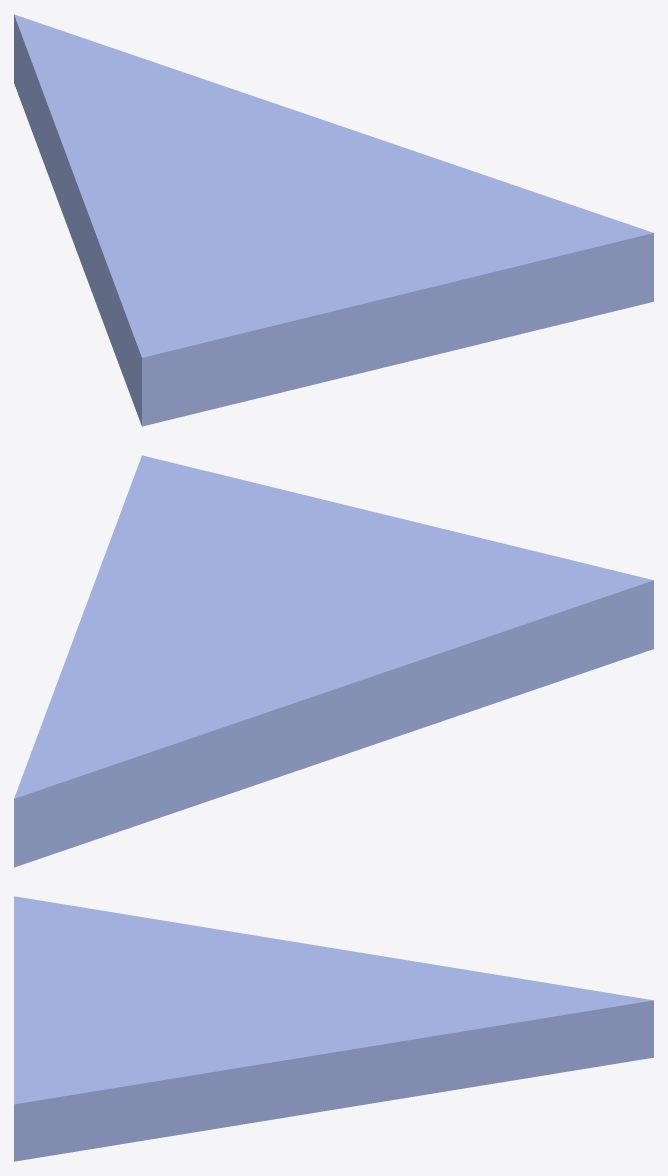
Rendered from triangolo_isoscele_piccolo.glb.
3 views of the same model, one above another, from view 1: azimuth 30°, elevation 25°; view 2: azimuth 150°, elevation 25°; view 3: azimuth 270°, elevation 25° (orthographic). The views are drawn at different scales.
Visible parts, largest first — view 1: Cilindro; view 2: Cilindro; view 3: Cilindro.
Part boxes in pixels (box(x1,y1,x2,y2)): Cilindro: box(14, 14, 653, 426); Cilindro: box(14, 455, 653, 867); Cilindro: box(14, 896, 653, 1161).
Bounding box in the file's own units: 0.6235 × 0.08 × 0.81.
